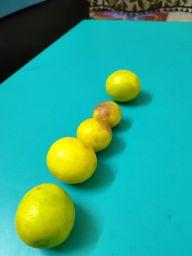lemon: (16, 184, 76, 248), (47, 137, 98, 185), (77, 118, 113, 152), (106, 70, 140, 103), (93, 101, 122, 125)
